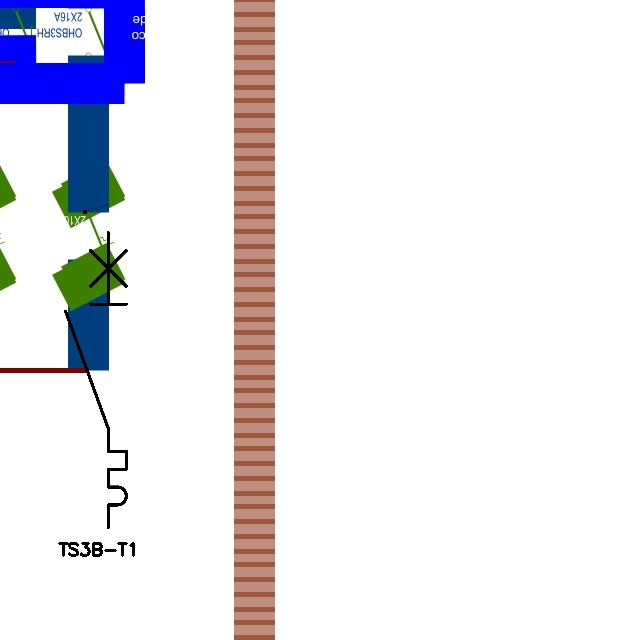interruptor_termomagnetico: (58, 225, 134, 535)
